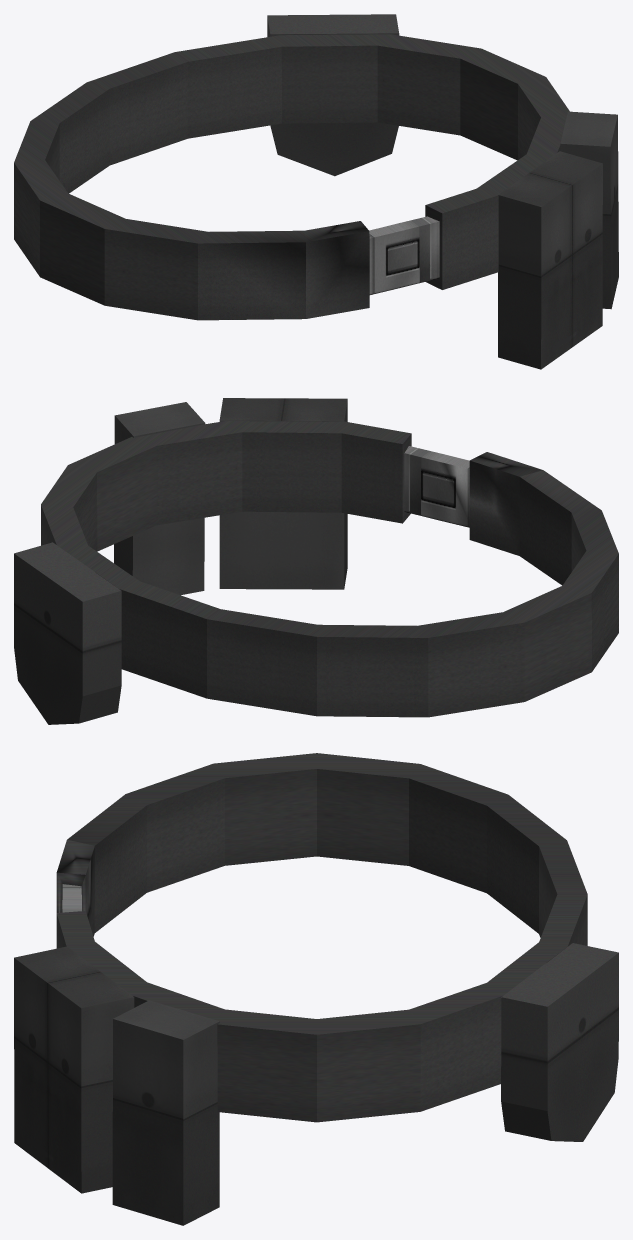
The model's file is PoliceDutyBelt_WorldItem.fbx.
The picture shows the model from 3 angles, top to bottom: view 1: azimuth 30°, elevation 25°; view 2: azimuth 150°, elevation 25°; view 3: azimuth 270°, elevation 25°; orthographic projection. The views are drawn at different scales.
Parts seen in each view (by area): view 1: Circle.005; view 2: Circle.005; view 3: Circle.005.
Part boxes in pixels (x1,y1,x2,y2): Circle.005: [14, 14, 618, 369]; Circle.005: [14, 398, 618, 724]; Circle.005: [14, 753, 618, 1225].
Size of the model in its own units: 0.5398 by 0.1626 by 0.4764.
